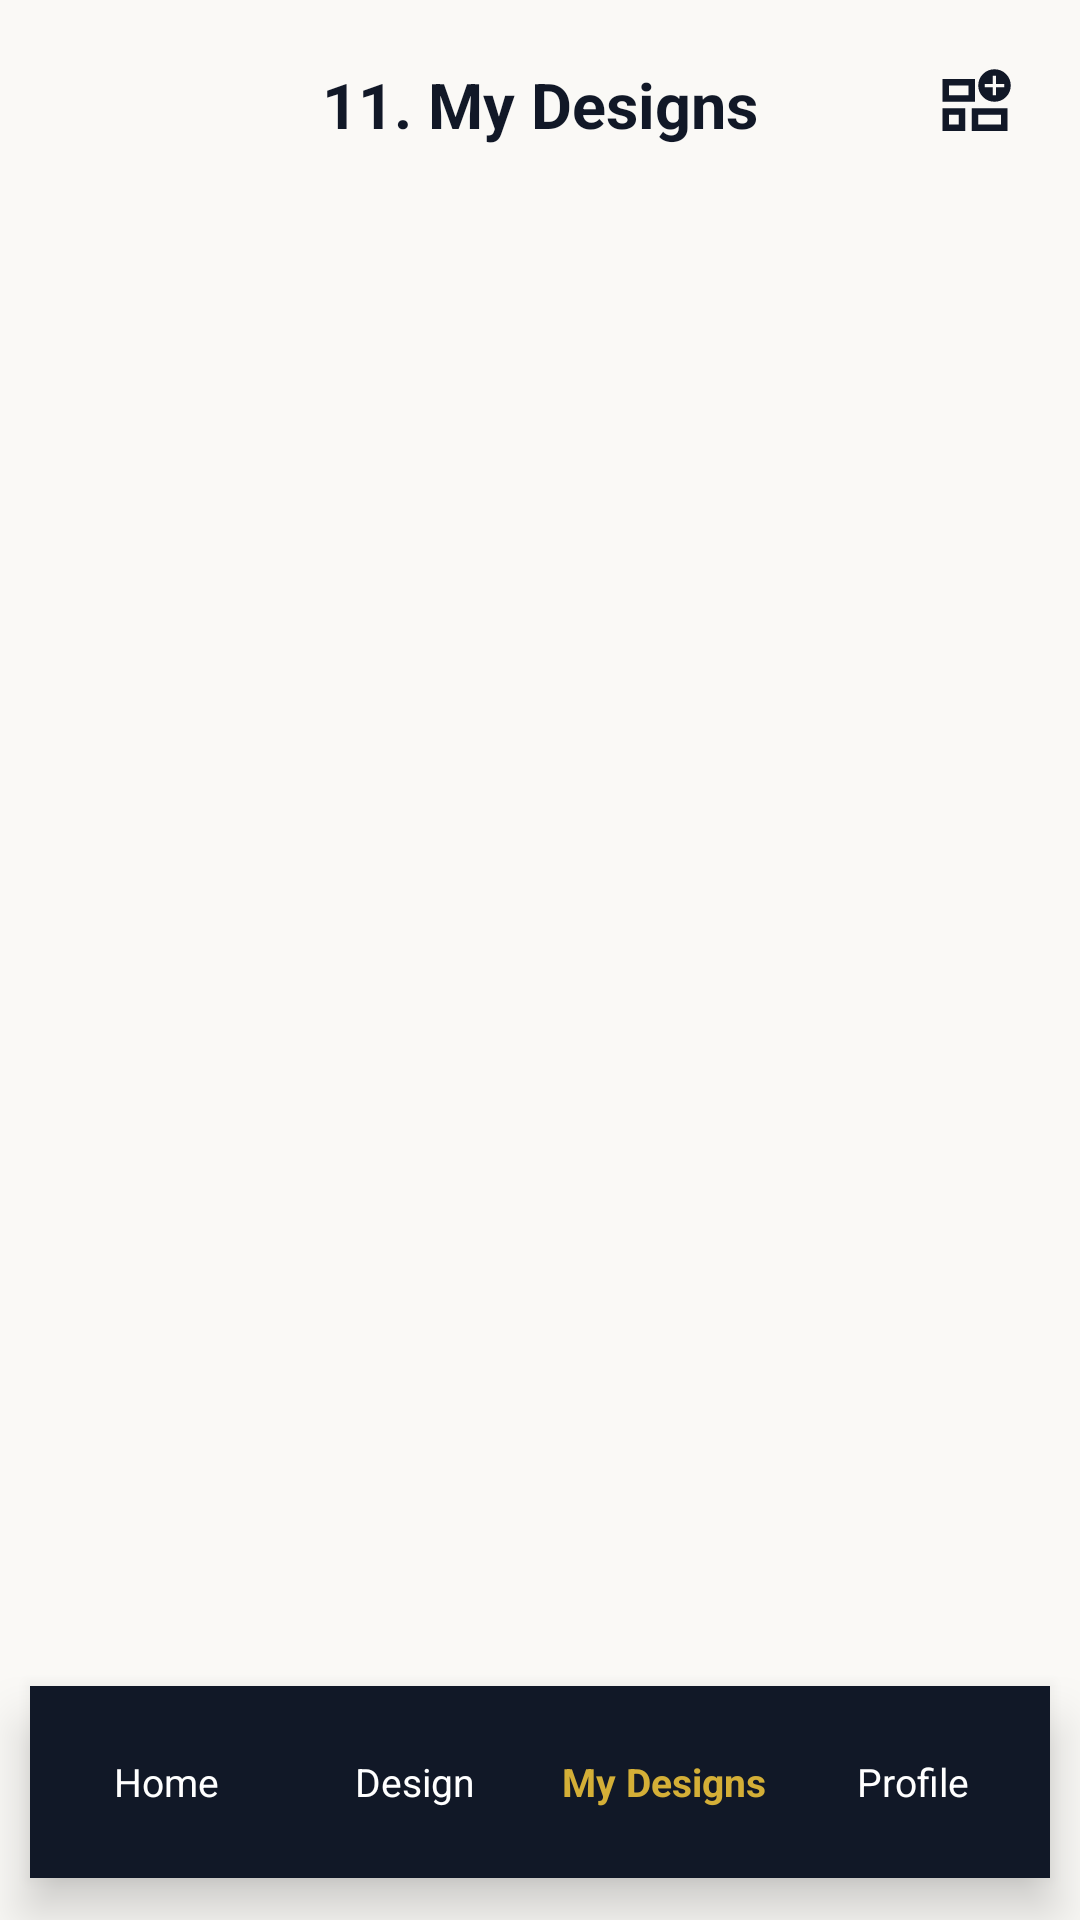

Icon bounding boxes for this 1080x1920 phone screenshot, format BBox(x1, y1, x2, y2):
Grid: BBox(942, 69, 1011, 131)
